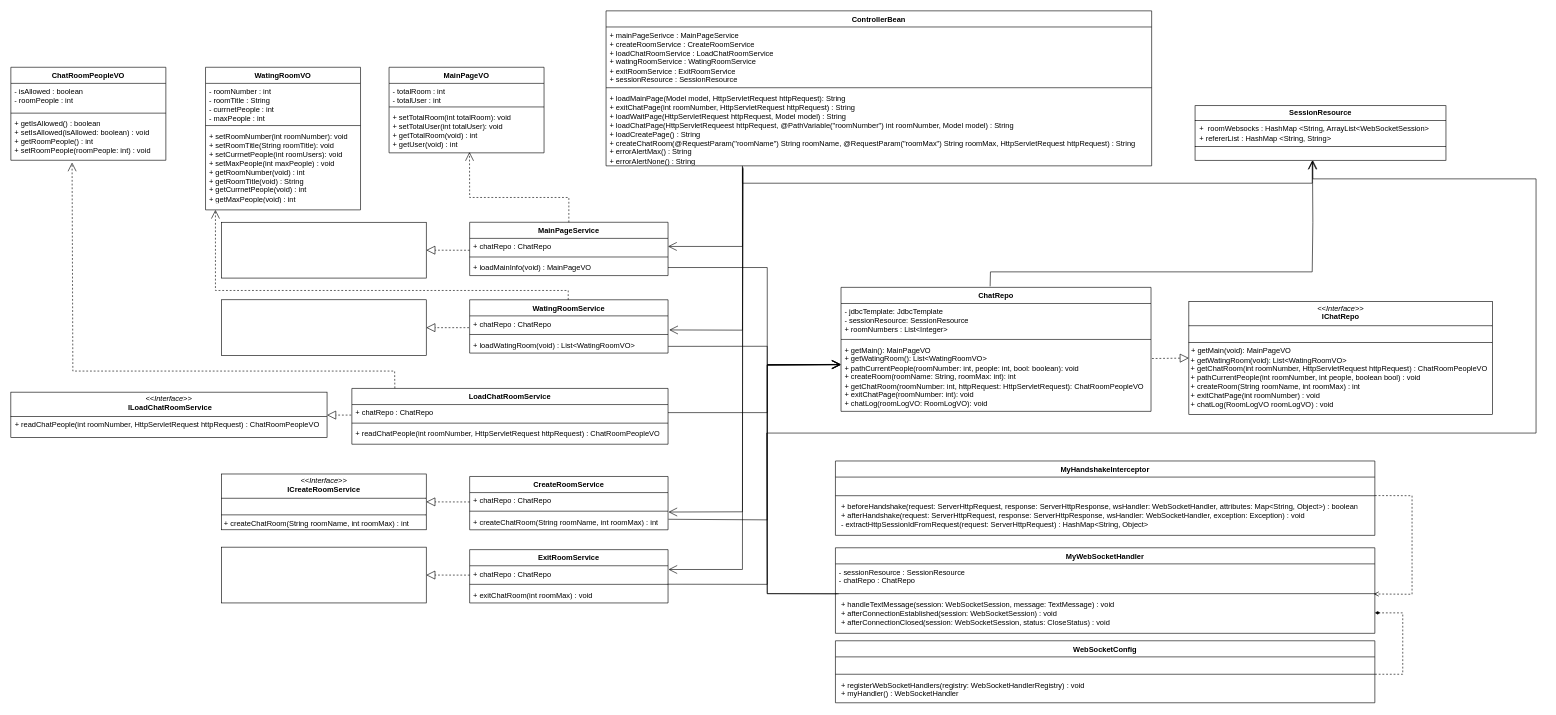
Some shapes in this 1556 by 715 pixel diagram are drawn without their labels. The shapes that lost their labels are listed below. From the top down, each one's centre as x and y in pixels, then its label:
At pixel 323 250: "<<Interface>> IMainPageSerivce + loadMainInfo(void) : MainPageVO".
At pixel 323 327: "<<Interface>> I WatingRoomService + loadWatingRoom(void): List<WatingRoomVO>".
At pixel 323 575: "<<Interface>> IExit RoomService + exitChatRoom(int roomMax) : void".
